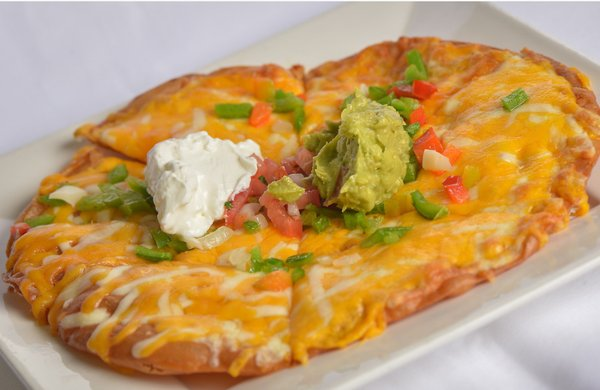curry: (308, 85, 420, 214)
